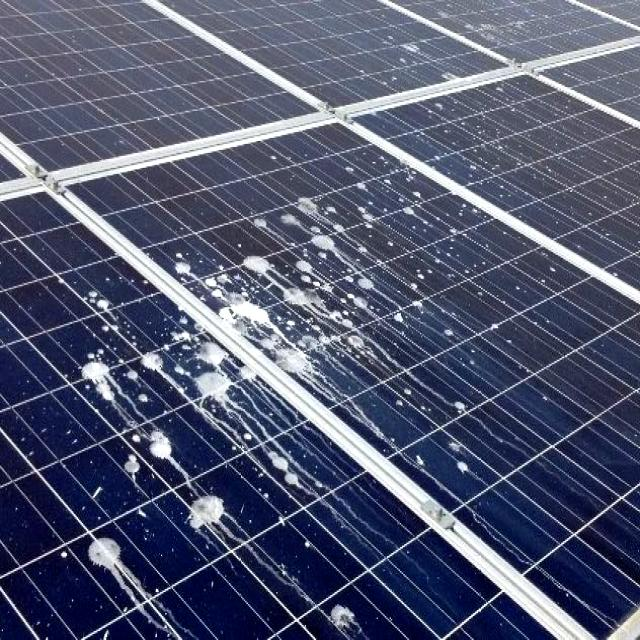bird: (70, 536, 177, 615), (261, 188, 332, 306), (183, 486, 276, 569), (342, 222, 406, 314), (68, 341, 146, 411), (224, 309, 310, 366), (167, 232, 232, 301), (428, 307, 487, 377), (118, 422, 191, 476), (434, 395, 484, 472), (322, 316, 390, 372), (71, 276, 138, 332), (174, 350, 224, 420), (256, 438, 314, 488), (318, 585, 370, 640)
